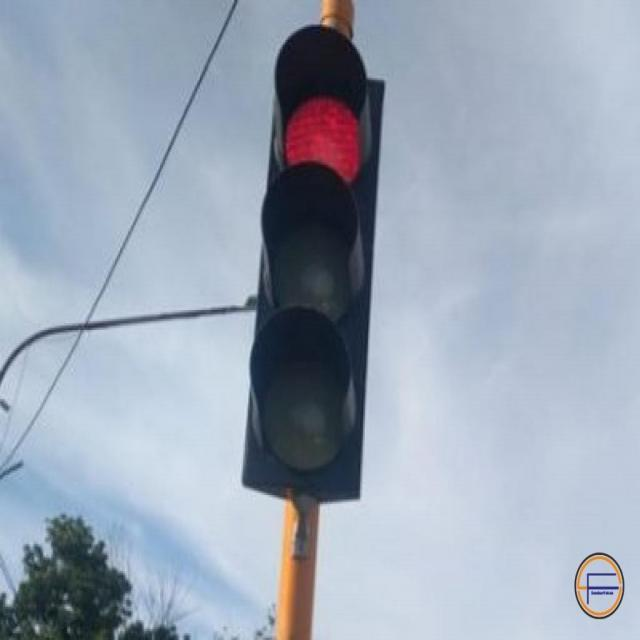red_light: (266, 40, 382, 498)
